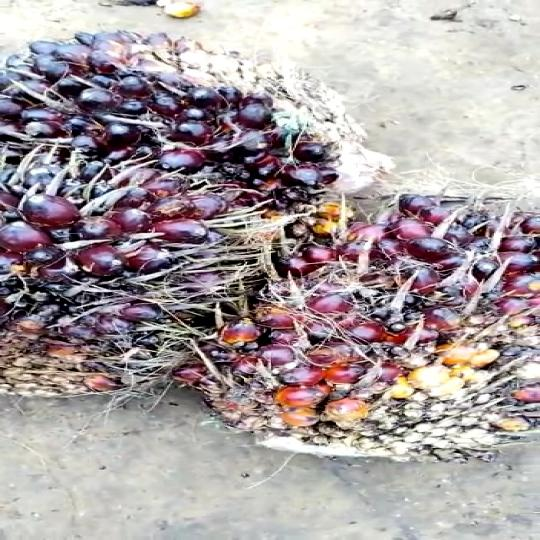kurang masak: (255, 186, 540, 475), (0, 25, 374, 230), (0, 140, 227, 408)
